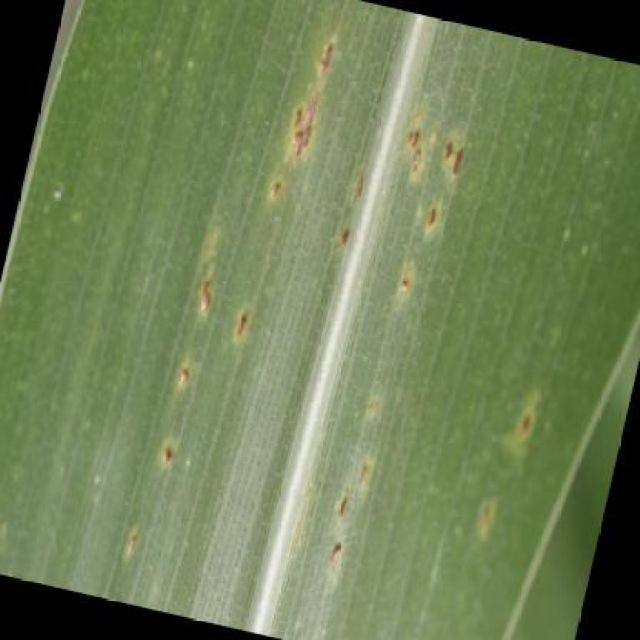Corn_Rust: (108, 42, 526, 564)
